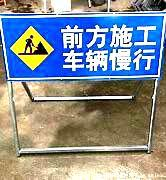sign: (1, 16, 160, 78)
